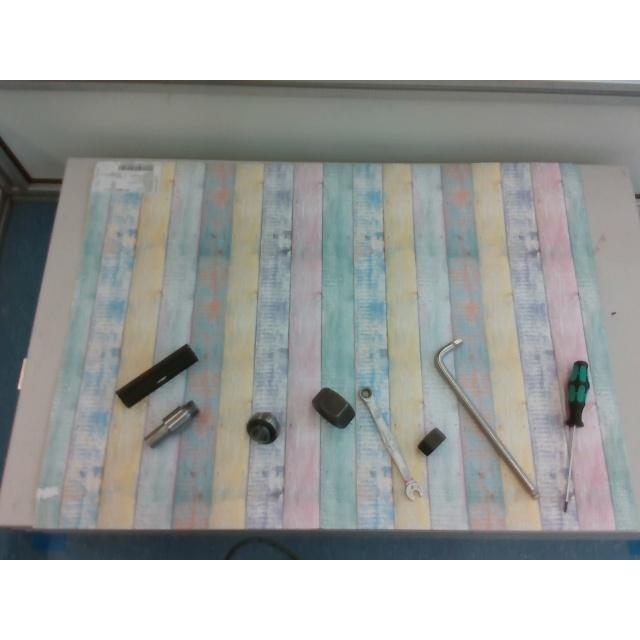AllenKey: (433, 338, 539, 498)
Axis2: (144, 402, 198, 446)
Bearing2: (246, 412, 280, 444)
F20_20_B: (115, 344, 197, 408)
M20: (417, 428, 445, 456)
M30: (312, 388, 354, 428)
Screwdriver: (563, 361, 589, 512)
Wrench: (359, 388, 425, 500)
